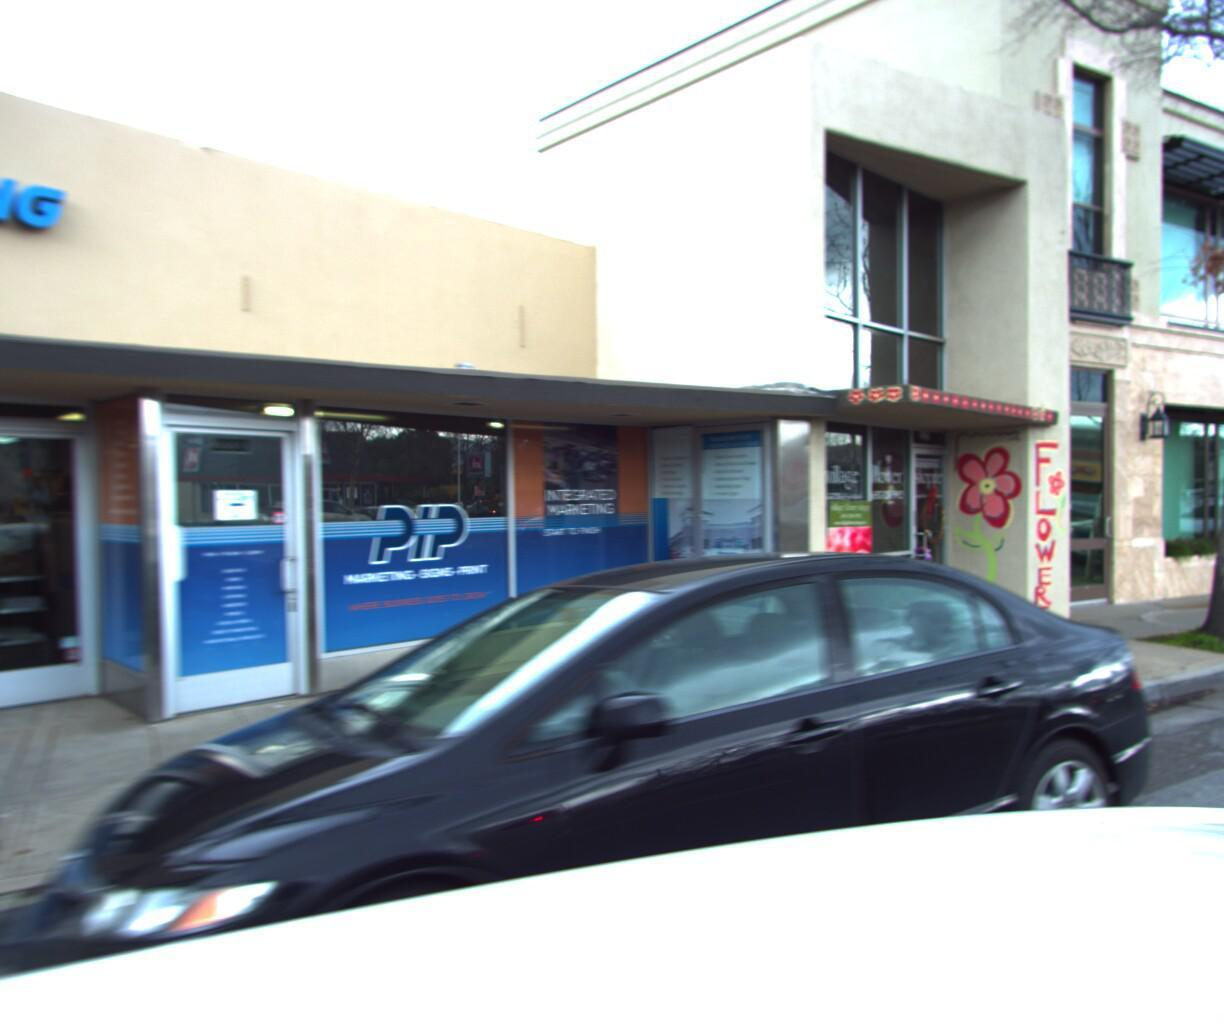car: (0, 530, 1224, 1024)
